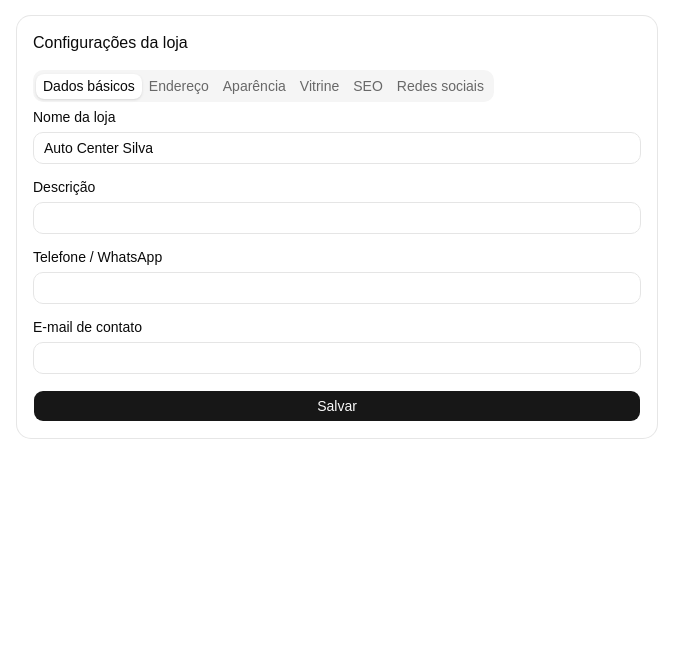
Test: ConfiguracoesPage › ativa e salva a vitrine pública quando há slug
Check: the field labelled "Nome da loja" is shown, box [33,132,641,164]
Click the tab "Vitrine" at (320, 86), box [293,74,346,98]
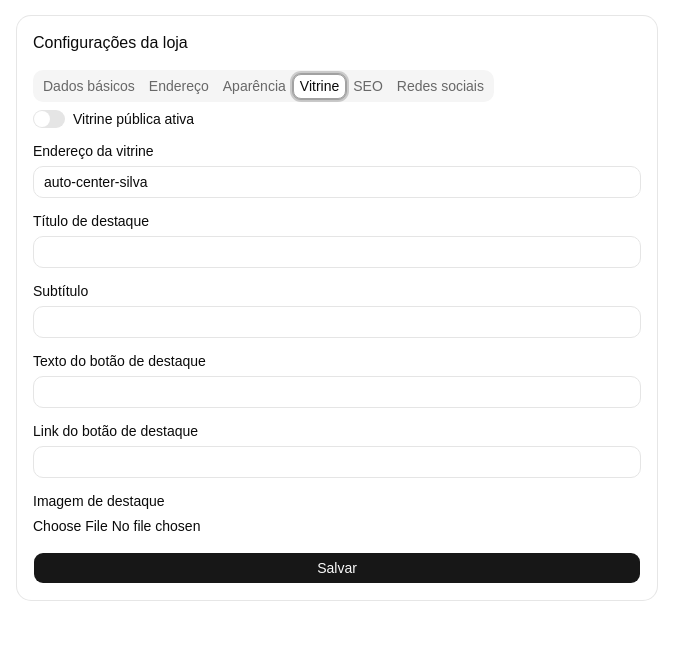
Click the switch named "vitrine pública ativa" at (49, 119), box [33,110,65,128]
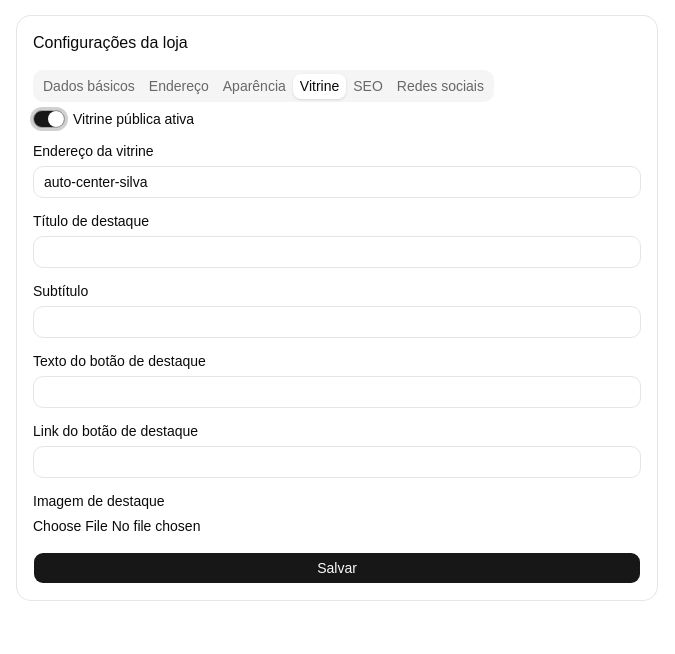
Click the button "Salvar" at (337, 568), box [33,552,641,584]
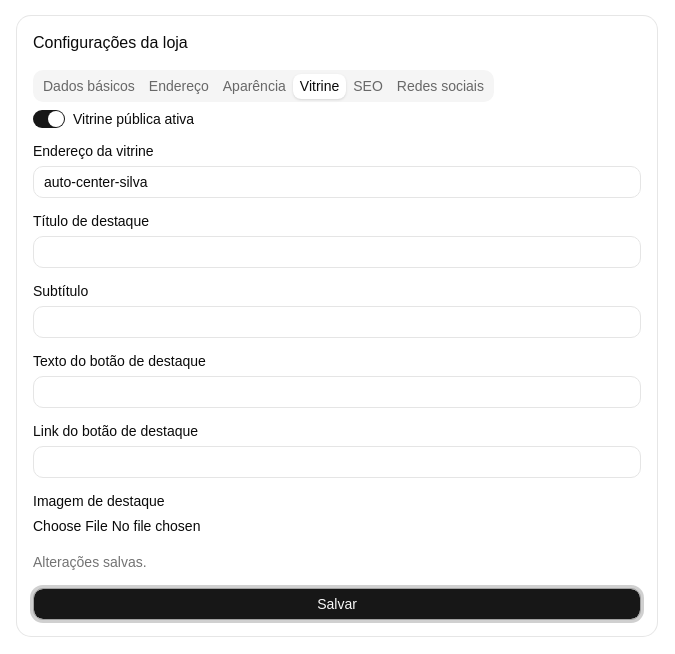
Check: the text "Alterações salvas." is shown, box [33,554,147,570]
